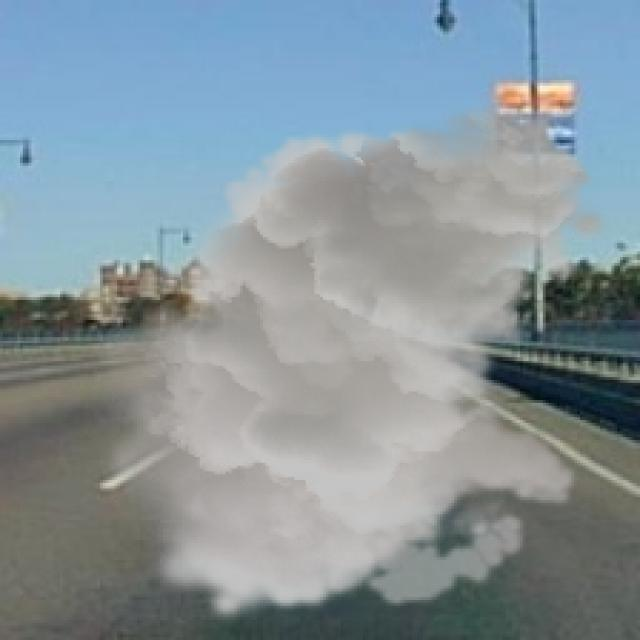smoke: (86, 103, 611, 623)
